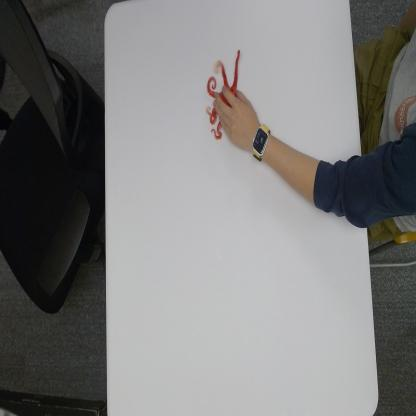Arm: (271, 134, 416, 230)
Hand: (212, 84, 258, 152)
Octopus: (205, 47, 243, 141)
